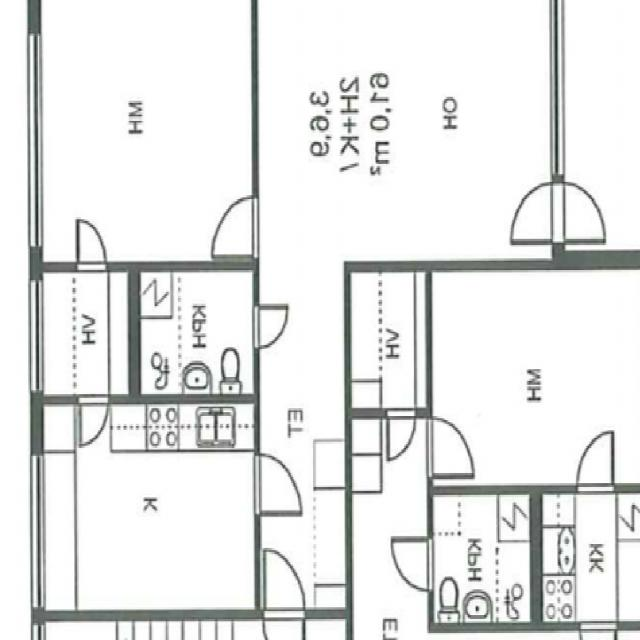door: (512, 182, 566, 240), (553, 182, 606, 240), (256, 452, 303, 513), (215, 196, 262, 256), (265, 550, 305, 620), (78, 220, 106, 272), (256, 305, 290, 347), (81, 393, 109, 443)
